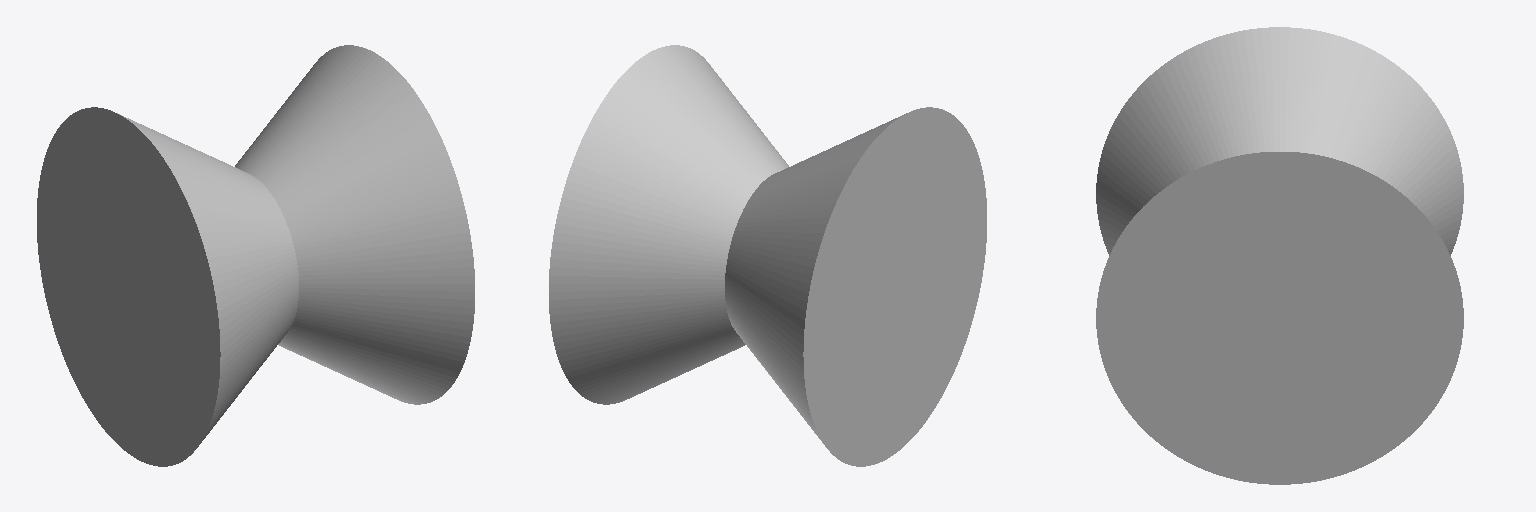
File: Lrg Digger col.obj
3 renders of one model, left to right at view 1: azimuth 30°, elevation 25°; view 2: azimuth 150°, elevation 25°; view 3: azimuth 270°, elevation 25°, orthographic.
Visible parts, largest first — view 1: Cylinder.002_Cylinder.000; view 2: Cylinder.002_Cylinder.000; view 3: Cylinder.002_Cylinder.000.
Part boxes in pixels (bbox=[...]): Cylinder.002_Cylinder.000: bbox=[37, 45, 474, 466]; Cylinder.002_Cylinder.000: bbox=[549, 45, 986, 466]; Cylinder.002_Cylinder.000: bbox=[1096, 27, 1463, 484].
Bounding box in the file's own units: 4 × 5 × 5.